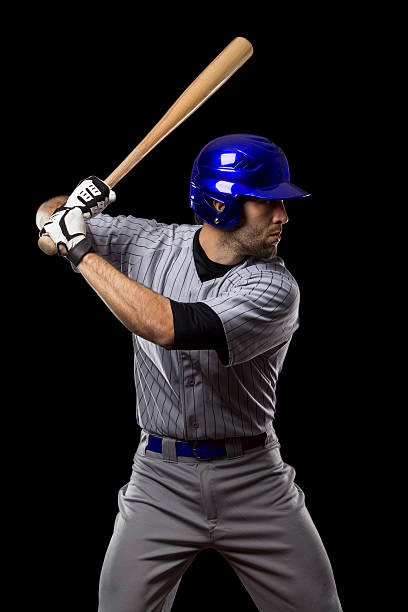bita: (97, 34, 251, 202)
